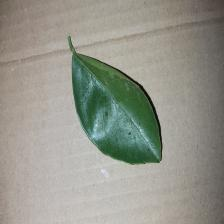healthy: (65, 33, 165, 166)
